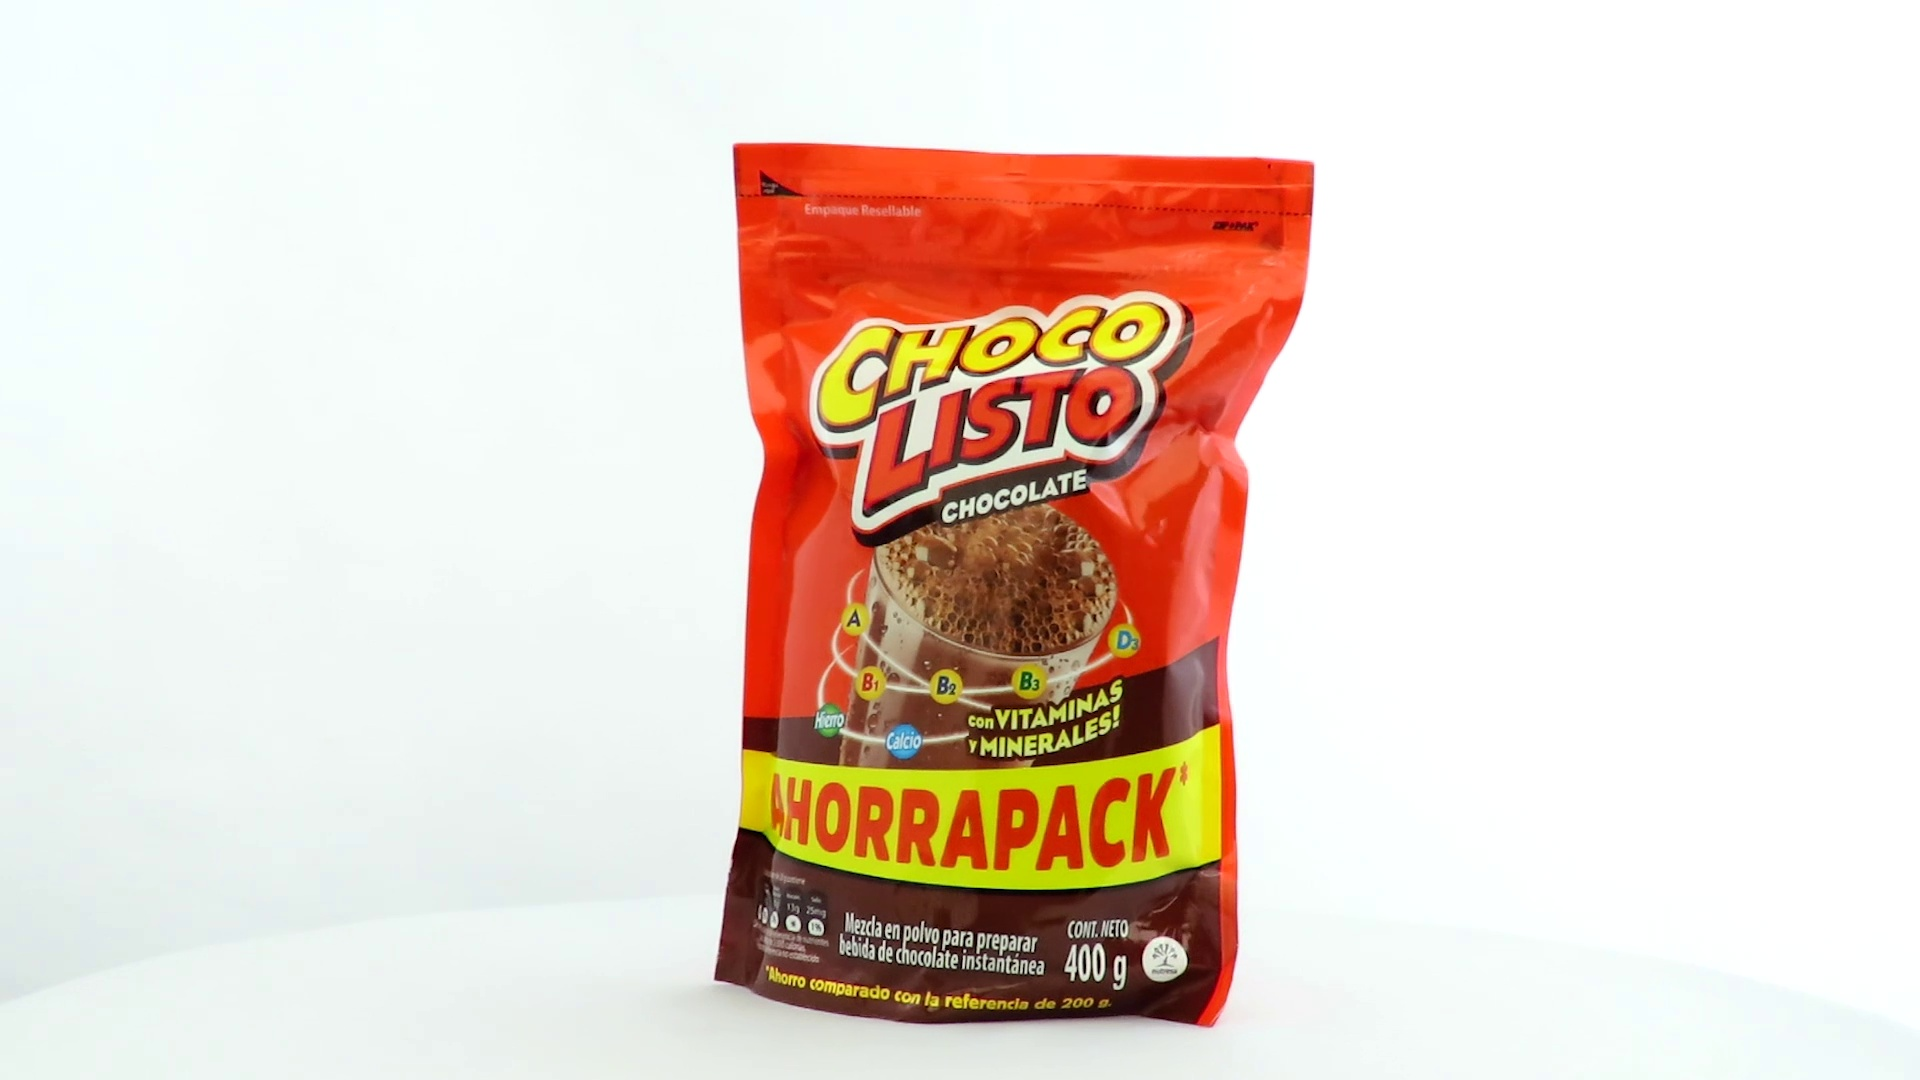COL0170103DYP40000: (709, 137, 1321, 1034)
